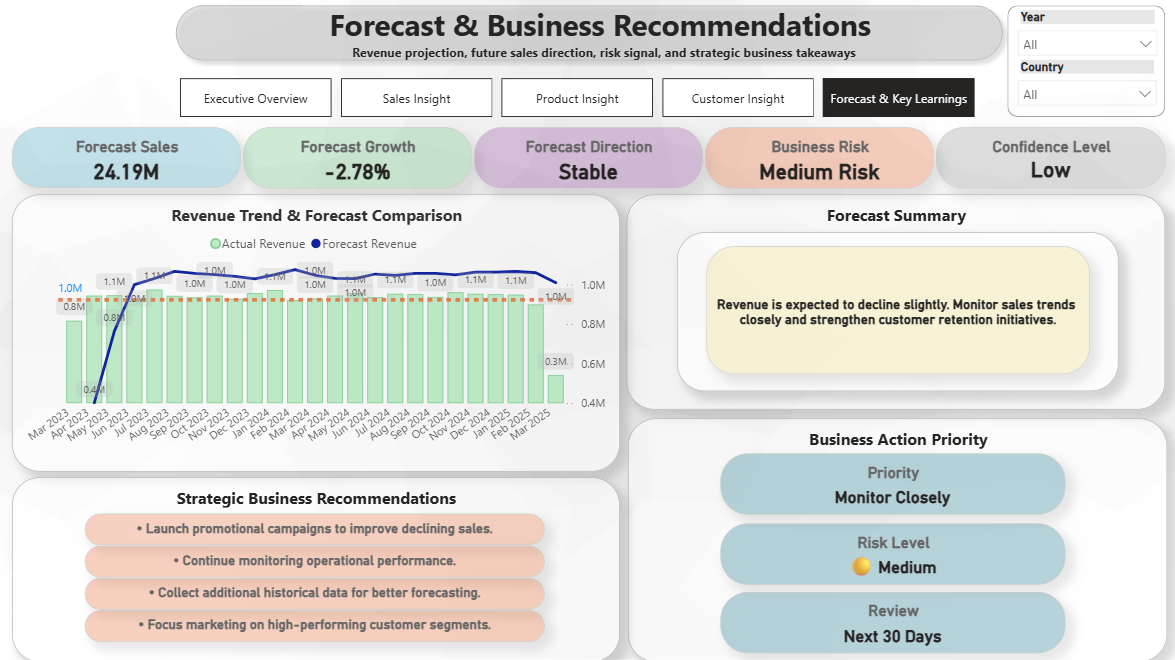

The dashboard page shown, as its layout file describes it:
{"tool":"powerbi","page":{"name":"Forecast & Key Learnings","canvas":[1280,720],"ordinal":4},"visuals":[{"type":"shape","box":[183.8,0,913.2,77.9],"z":0},{"type":"textbox","box":[330,2.9,651.2,106.1],"z":1000},{"type":"pageNavigator","box":[197,88,864.7,42.4],"z":2000},{"type":"shape","title":"Forecast Summary ","box":[680,213.8,582.5,232.5],"z":3000},{"type":"shape","title":"Market Leadership Insight","box":[734.3,254.3,477.6,172.4],"z":4000},{"type":"lineClusteredColumnComboChart","title":"Revenue Trend & Forecast Comparison","fields":{"Category":["Dim Date.Month Year"],"Y":["Measure Table.Actual Revenue"],"Y2":["Measure Table.Forecast Revenue"]},"box":[15,213.3,658,300],"z":5000},{"type":"card","title":" Forecast Sales ","fields":{"Values":["Measure Table.Forecast Sales"]},"box":[15,141.4,248,66],"z":6000},{"type":"card","title":"Forecast Growth","fields":{"Values":["Measure Table.Forecast Growth %"]},"box":[265,141,248,66.7],"z":7000},{"type":"card","title":"Forecast Direction","fields":{"Values":["Measure Table.Forecast Direction"]},"box":[515.7,141.4,248,66.7],"z":8000},{"type":"card","title":"Business Risk","fields":{"Values":["Measure Table.Business Risk"]},"box":[765.7,141,248,66.7],"z":9000},{"type":"card","title":"Confidence Level","fields":{"Values":["Measure Table.Confidence Level"]},"box":[1015.7,141.4,248.9,66.7],"z":10000},{"type":"slicer","fields":{"Values":["Dim Country.Country"]},"box":[1094.2,65,170,56.7],"z":11000},{"type":"slicer","fields":{"Values":["Dim Date.Year"]},"box":[1093.3,9.2,170.8,61.7],"z":12000},{"type":"shape","box":[1092.9,9.3,170.7,120.7],"z":13000},{"type":"shape","title":"Business Action Priority ","box":[681.2,456.2,583.8,263.8],"z":14000},{"type":"shape","title":"Strategic Business Recommendations","box":[15.2,519.7,657.6,200],"z":15000},{"type":"card","title":" Forecast Sales ","fields":{"Values":["Measure Table.Recommendation 1"]},"box":[94.6,559.2,497.9,34.3],"z":16000},{"type":"card","title":" Forecast Sales ","fields":{"Values":["Measure Table.Recommendation 2"]},"box":[94.6,593.8,497.9,34.3],"z":17000},{"type":"card","title":" Forecast Sales ","fields":{"Values":["Measure Table.Recommendation 3"]},"box":[93.8,628.5,497.9,34.3],"z":18000},{"type":"card","title":" Forecast Sales ","fields":{"Values":["Measure Table.Recommendation 4"]},"box":[93.8,663.1,497.9,34.3],"z":19000},{"type":"card","title":"Business Risk","fields":{"Values":["Measure Table.Forecast Summary"]},"box":[766.7,270,415,138.8],"z":20000},{"type":"card","title":"Priority","fields":{"Values":["Measure Table.Action Priority"]},"box":[781.7,493.3,373.3,66.7],"z":21000},{"type":"card","title":"Review","fields":{"Values":["Measure Table.Next Review Period"]},"box":[781.7,643.3,373.3,66.7],"z":22000},{"type":"card","title":"Risk Level","fields":{"Values":["Measure Table.Priority Color"]},"box":[781.7,569,373.3,66.7],"z":23000}]}

Visuals, with their boxes in screenshot pixels (x1, y1, x2, y2), scaled from the page's 1280x720 canvas onto the 1175x660 screenshot:
shape: 169:0:1007:71
textbox: 303:3:901:100
pageNavigator: 181:81:975:120
"Forecast Summary " shape: 624:196:1159:409
"Market Leadership Insight" shape: 674:233:1112:391
"Revenue Trend & Forecast Comparison" lineClusteredColumnComboChart: 14:196:618:471
" Forecast Sales " card: 14:130:241:190
"Forecast Growth" card: 243:129:471:190
"Forecast Direction" card: 473:130:701:191
"Business Risk" card: 703:129:931:190
"Confidence Level" card: 932:130:1161:191
slicer - Dim Country.Country: 1004:60:1160:112
slicer - Dim Date.Year: 1004:8:1160:65
shape: 1003:9:1160:119
"Business Action Priority " shape: 625:418:1161:659
"Strategic Business Recommendations" shape: 14:476:618:659
" Forecast Sales " card: 87:513:544:544
" Forecast Sales " card: 87:544:544:576
" Forecast Sales " card: 86:576:543:608
" Forecast Sales " card: 86:608:543:639
"Business Risk" card: 704:248:1085:375
"Priority" card: 718:452:1060:513
"Review" card: 718:590:1060:651
"Risk Level" card: 718:522:1060:583
